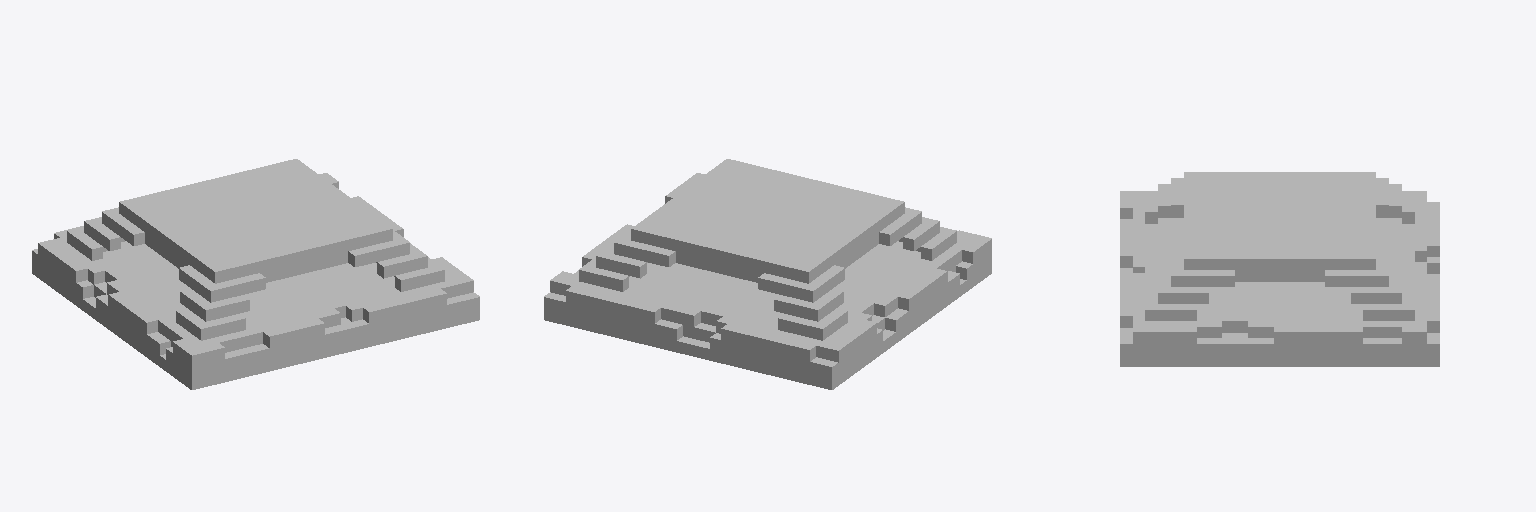
Rendered from platform1.obj.
3 views of the same model, side by side, from view 1: azimuth 30°, elevation 25°; view 2: azimuth 150°, elevation 25°; view 3: azimuth 270°, elevation 25° (orthographic).
Visible parts, largest first — view 1: object 1; view 2: object 1; view 3: object 1.
Boxes of the visible parts, <box> form: object 1: <box>32,159,479,389</box>; object 1: <box>544,159,991,389</box>; object 1: <box>1120,172,1439,366</box>.
Size of the model in its own units: 2.6 by 0.7 by 2.5.